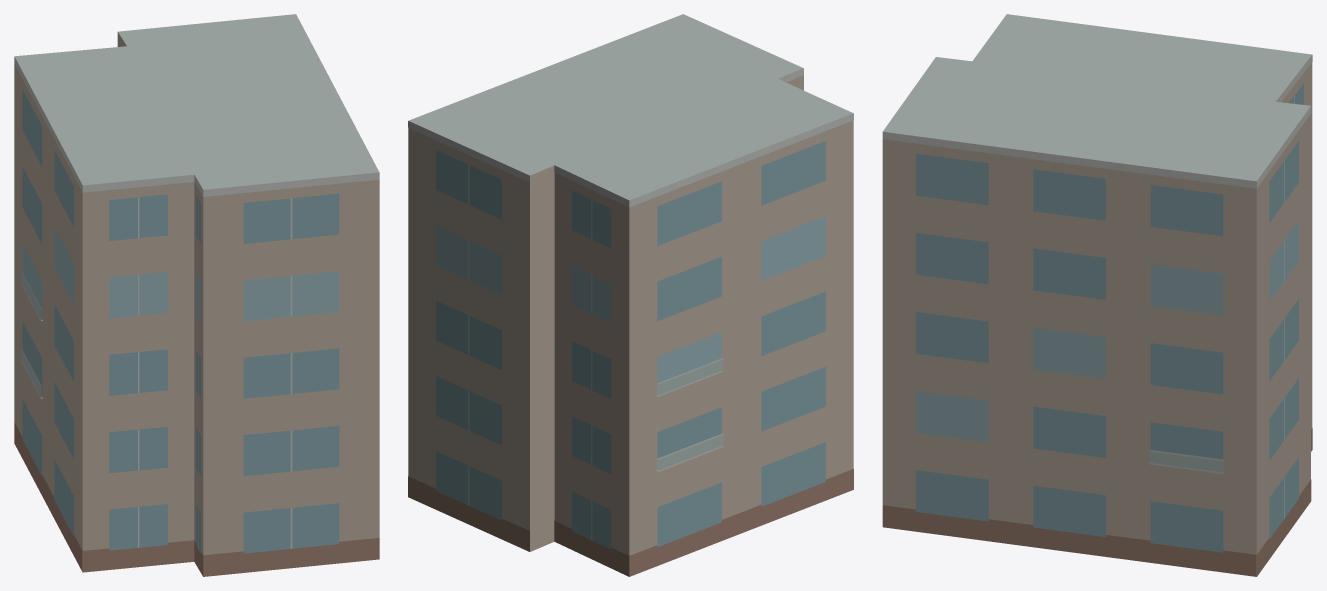
File: survey-upis-32873339.glb
3 views of the same model, side by side, from view 1: azimuth 30°, elevation 25°; view 2: azimuth 150°, elevation 25°; view 3: azimuth 270°, elevation 25° (orthographic). The views are drawn at different scales.
Parts seen in each view (by area): view 1: survey-upis-32873339.tmp; view 2: survey-upis-32873339.tmp; view 3: survey-upis-32873339.tmp.
Part boxes in pixels (bbox=[...]): survey-upis-32873339.tmp: bbox=[14, 14, 379, 576]; survey-upis-32873339.tmp: bbox=[408, 14, 853, 576]; survey-upis-32873339.tmp: bbox=[882, 14, 1312, 576].
Size of the model in its own units: 11.9 by 13.1 by 12.91.
